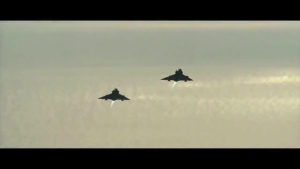flight: (97, 87, 130, 103), (159, 68, 194, 83)
